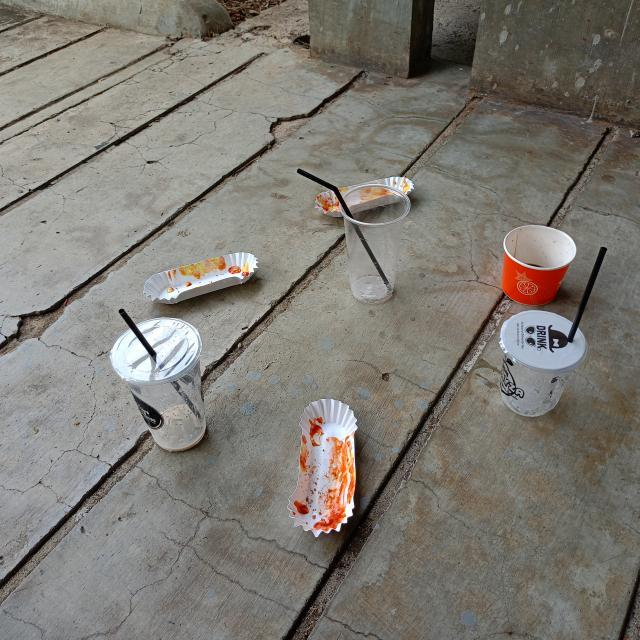recyclable waste: (105, 310, 213, 460), (282, 391, 366, 541), (490, 304, 592, 426), (328, 175, 416, 308), (136, 242, 270, 312), (490, 219, 586, 312), (308, 166, 422, 222)
